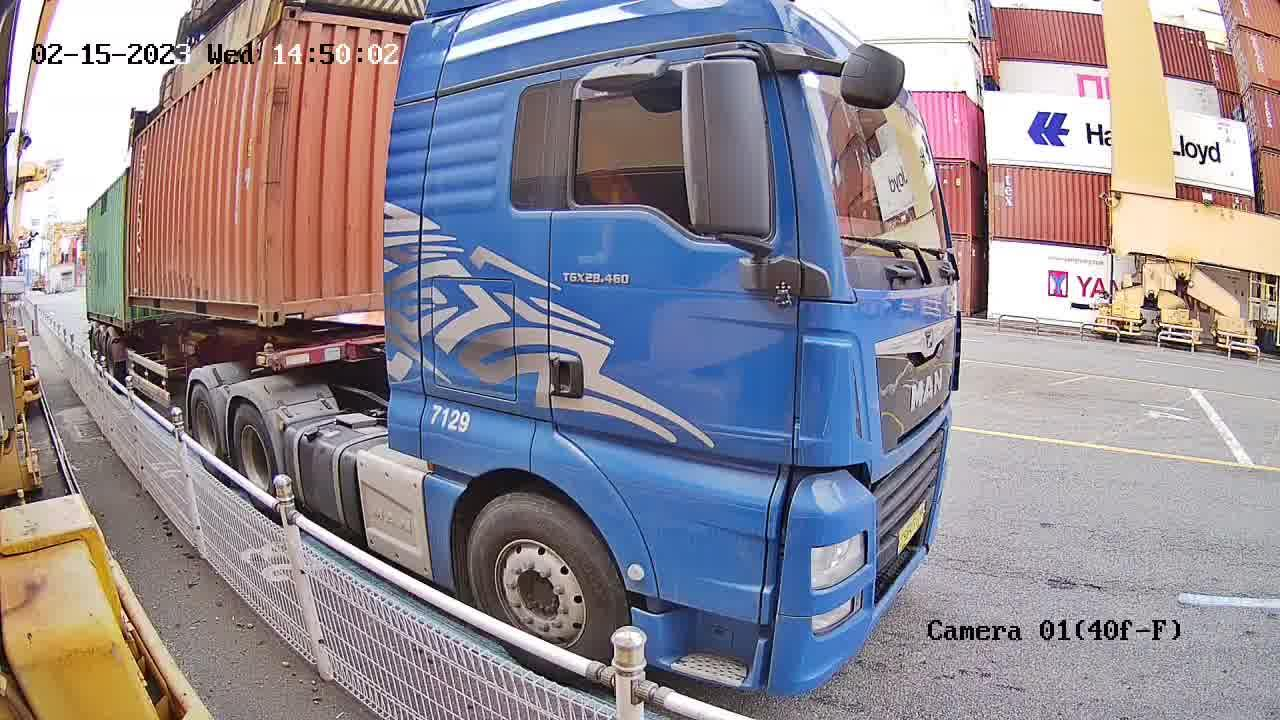Chassis: (275, 335, 387, 371)
Cone: (256, 341, 279, 369)
Hole_L: (269, 272, 314, 328)
Hole_R: (231, 279, 269, 327)
Tire: (466, 497, 631, 653), (231, 403, 280, 492), (187, 384, 223, 453)
